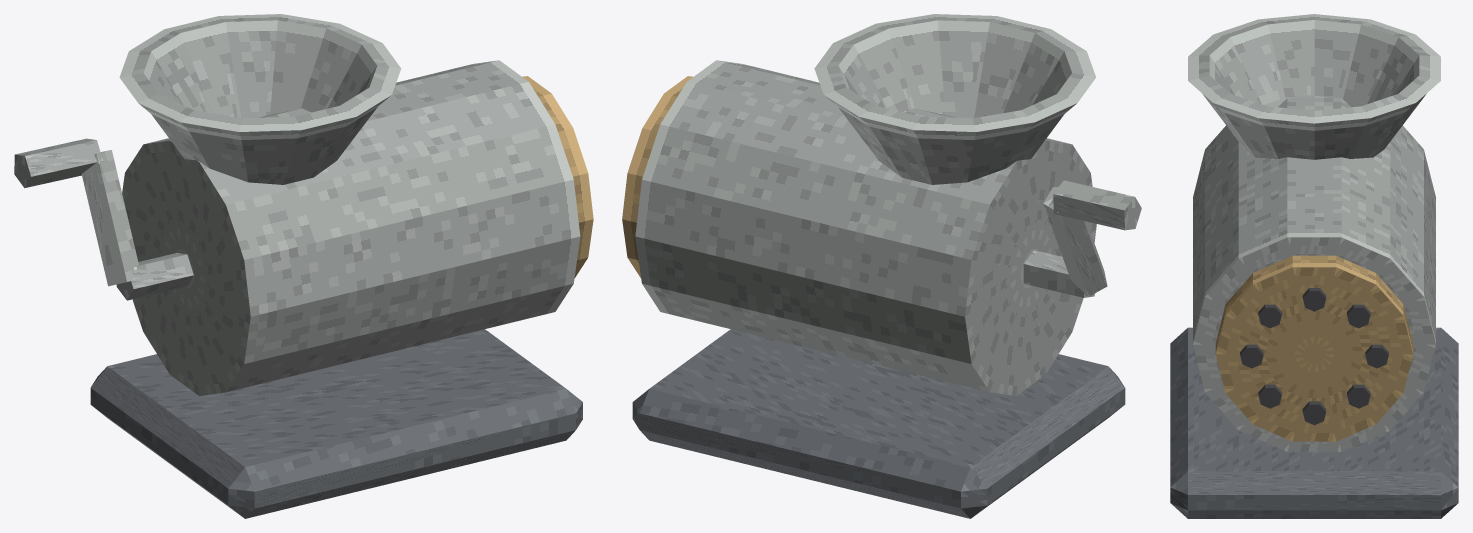
Rendered from pastaextruder.glb.
3 renders of one model, left to right at view 1: azimuth 30°, elevation 25°; view 2: azimuth 150°, elevation 25°; view 3: azimuth 270°, elevation 25°, orthographic. The views are drawn at different scales.
Parts seen in each view (by area): view 1: block_extruder barrel, block_clamp foot, block_feeding hopper, block_hand crank 1, block_perforated end plate, block_hand crank 2, block_hand crank 0; view 2: block_extruder barrel, block_clamp foot, block_feeding hopper, block_hand crank 2, block_hand crank 1, block_perforated end plate, block_hand crank 0; view 3: block_extruder barrel, block_clamp foot, block_feeding hopper, block_perforated end plate, block_dark die opening (×8).
Boxes of the visible parts, <box> form: block_extruder barrel: <box>122,60,580,395</box>; block_clamp foot: <box>90,329,582,518</box>; block_feeding hopper: <box>119,14,401,184</box>; block_hand crank 1: <box>81,150,138,286</box>; block_perforated end plate: <box>522,76,593,278</box>; block_hand crank 2: <box>14,138,102,188</box>; block_hand crank 0: <box>116,253,193,300</box>; block_extruder barrel: <box>635,60,1096,395</box>; block_clamp foot: <box>632,329,1125,518</box>; block_feeding hopper: <box>814,14,1095,184</box>; block_hand crank 2: <box>1053,180,1141,230</box>; block_hand crank 1: <box>1043,187,1107,296</box>; block_perforated end plate: <box>622,76,692,278</box>; block_hand crank 0: <box>1023,250,1095,297</box>; block_extruder barrel: <box>1193,96,1435,451</box>; block_clamp foot: <box>1170,327,1458,518</box>; block_feeding hopper: <box>1188,14,1440,159</box>; block_perforated end plate: <box>1215,255,1413,441</box>; block_dark die opening (×8): <box>1240,288,1388,425</box>.
Bounding box in the file's own units: 0.19 × 0.139 × 0.1046.
1 material, 1 textured.
